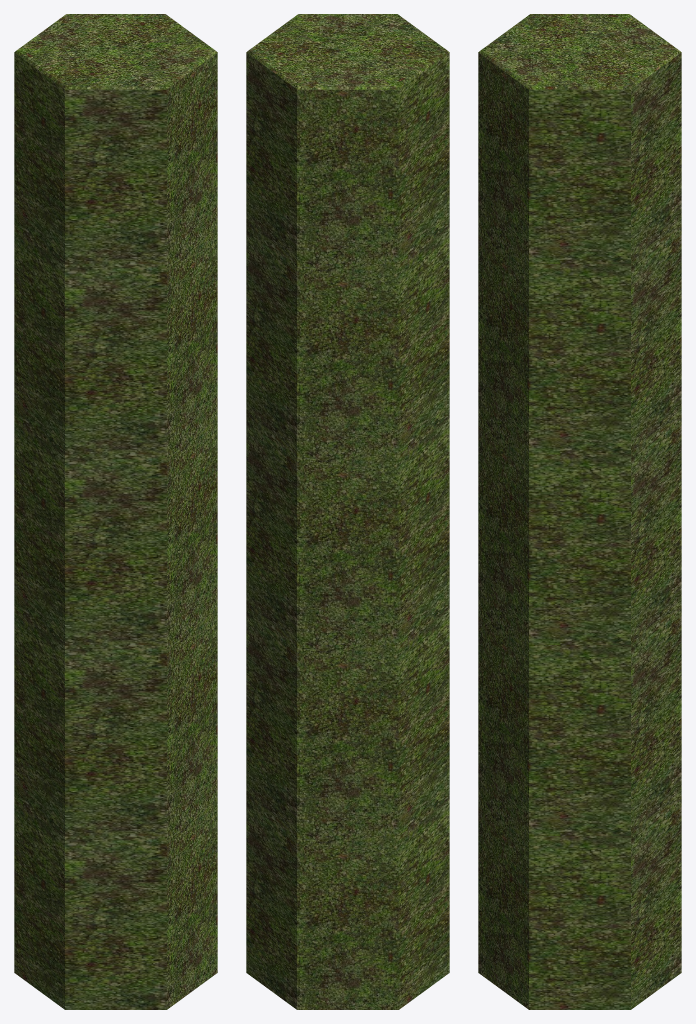
File: hex_grass.glb
The picture shows the model from 3 angles, left to right: view 1: azimuth 30°, elevation 25°; view 2: azimuth 150°, elevation 25°; view 3: azimuth 270°, elevation 25°; orthographic projection.
Visible parts, largest first — view 1: Cylinder; view 2: Cylinder; view 3: Cylinder.
Boxes of the visible parts, x1,y1,x2,y2 form: Cylinder: [14, 14, 217, 1009]; Cylinder: [246, 14, 449, 1009]; Cylinder: [478, 14, 681, 1009].
Size of the model in its own units: 1.73 by 10 by 2.
Materials: 1 (1 with a texture image).
